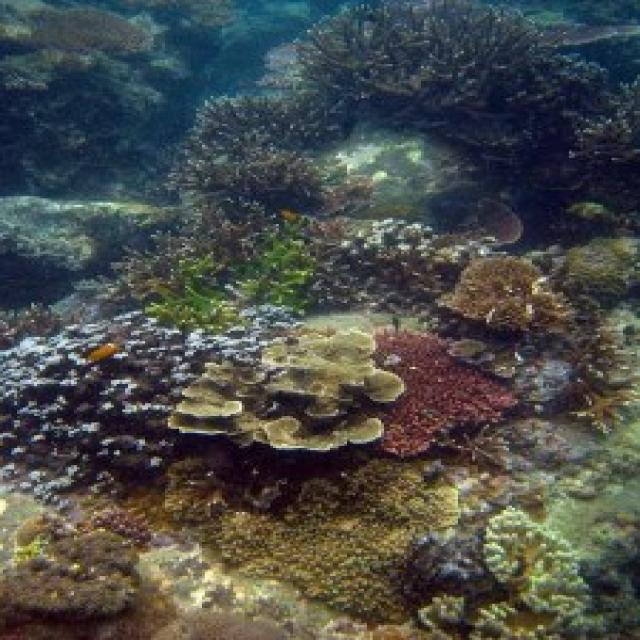Healthy: (297, 1, 615, 197), (1, 308, 291, 494), (160, 460, 459, 620), (123, 212, 487, 330), (470, 411, 638, 639), (166, 327, 405, 451), (172, 99, 334, 221), (379, 334, 513, 458), (462, 419, 590, 526), (1, 519, 135, 620), (439, 259, 567, 332), (559, 240, 638, 306)
